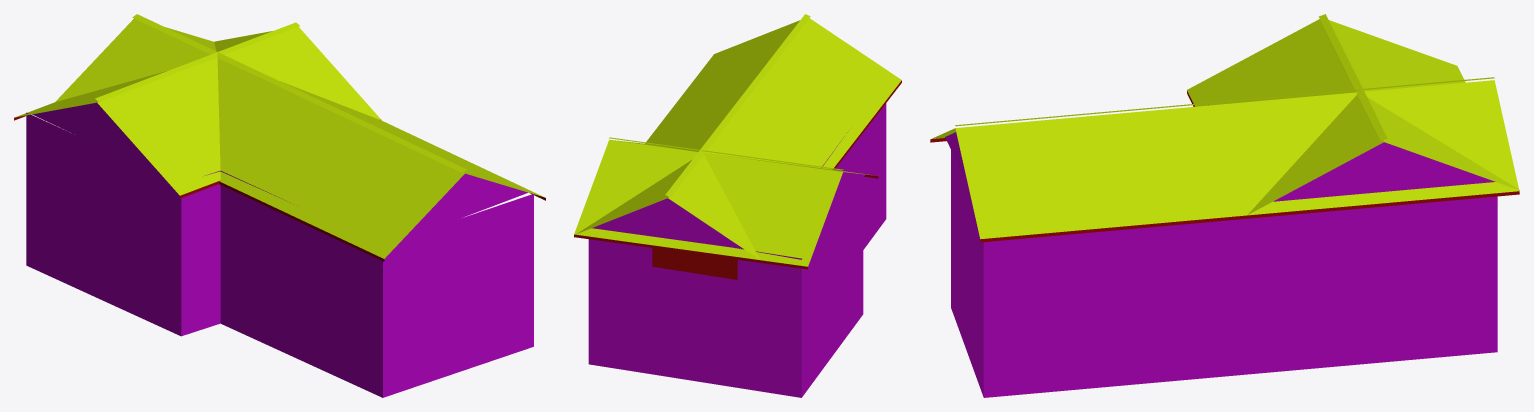
File: scl_61.glb
3 views of the same model, side by side, from view 1: azimuth 30°, elevation 25°; view 2: azimuth 150°, elevation 25°; view 3: azimuth 270°, elevation 25° (orthographic). The views are drawn at different scales.
Parts seen in each view (by area): view 1: scl_61; view 2: scl_61; view 3: scl_61.
Boxes of the visible parts, left/top/right/bottom form: scl_61: left=14, top=14, right=545, bottom=397; scl_61: left=574, top=14, right=901, bottom=397; scl_61: left=930, top=14, right=1519, bottom=397.
Bounding box in the file's own units: 13.45 × 8.32 × 19.41.
